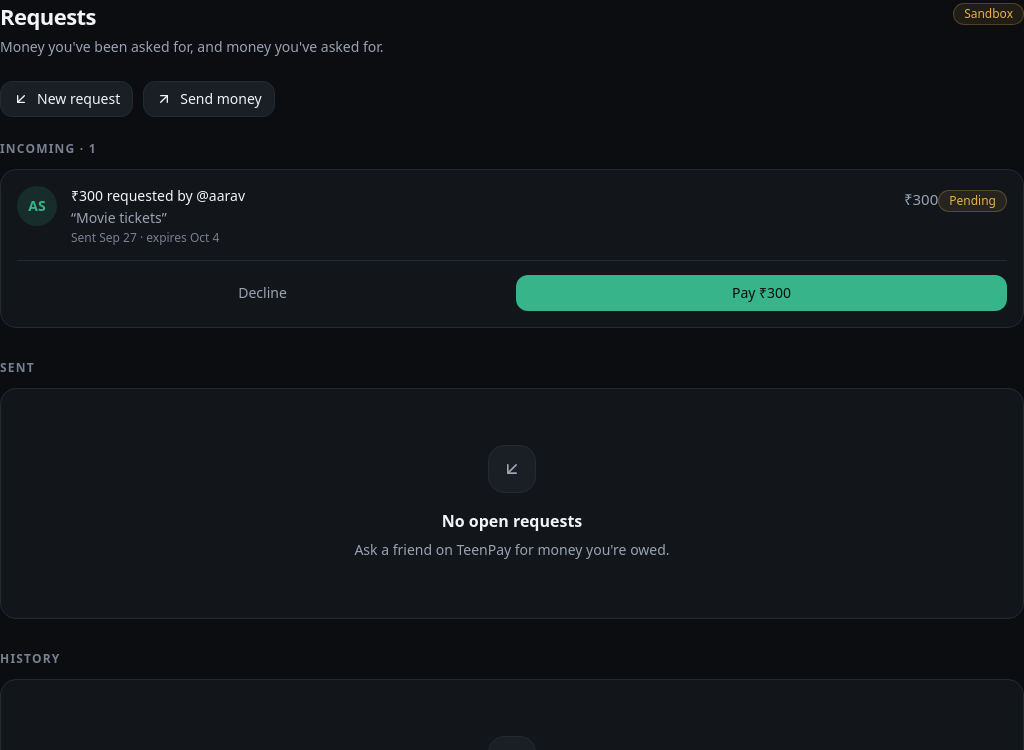
Test: Requests center › Incoming: '₹300 requested by @aarav' → Pay → confirm → paid once, moved to History
This screenshot has width=1024, height=750.
Expected: the text "₹300 requested by @aarav" is shown, x1=71 y1=186 x2=245 y2=205
Expected: the text "“Movie tickets”" is shown, x1=71 y1=208 x2=167 y2=227
Step 1. Click the button "Pay ₹300" → (762, 293), box x1=516 y1=275 x2=1007 y2=311
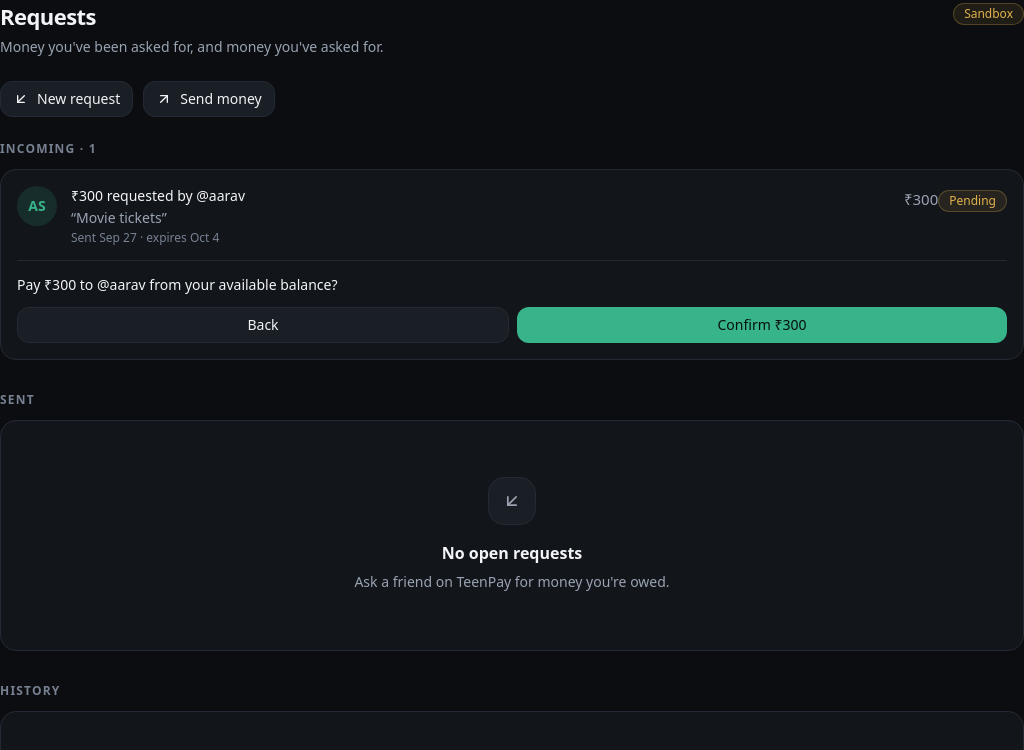
Now the text "Pay ₹300 to @aarav from your available balance?" is shown, box x1=17 y1=275 x2=338 y2=294
Step 2. Click the button "Confirm ₹300" → (762, 325), box x1=517 y1=307 x2=1007 y2=343
(page scrolled)
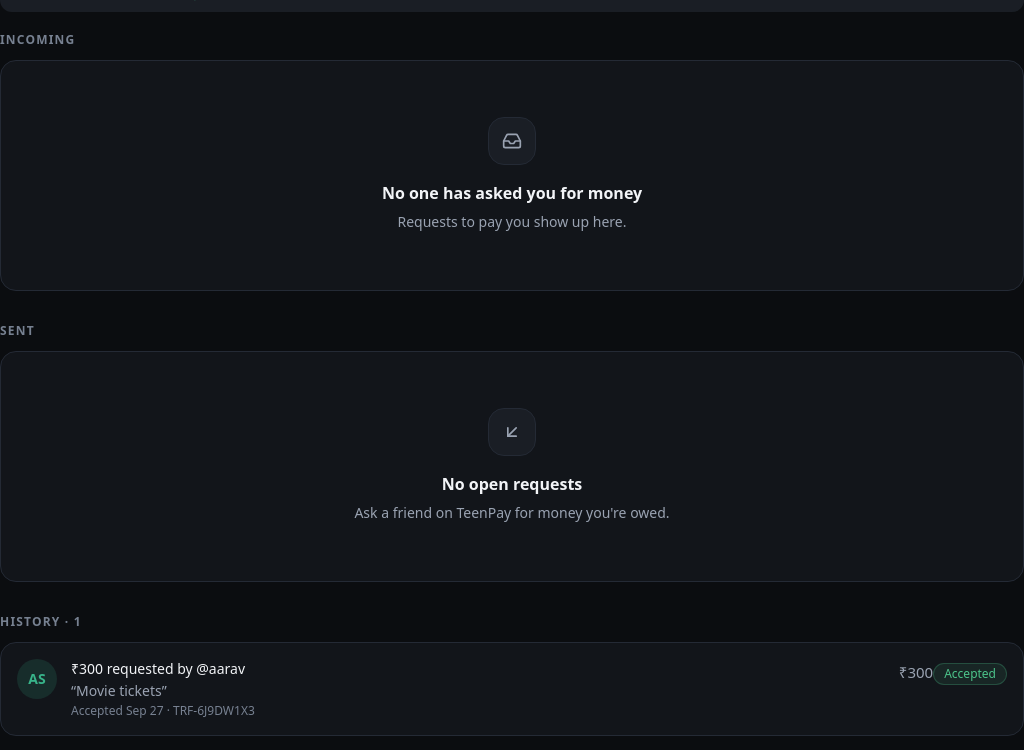
Now the text "Accepted" is shown, box x1=933 y1=662 x2=1007 y2=684
